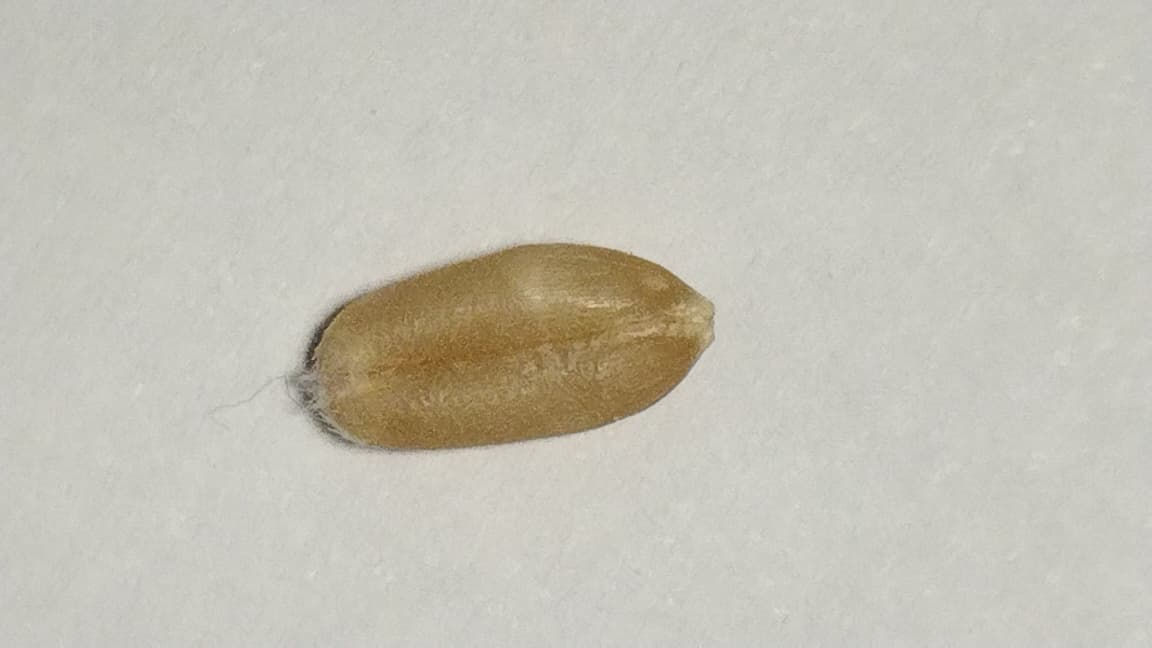healthy: (310, 243, 713, 447)
